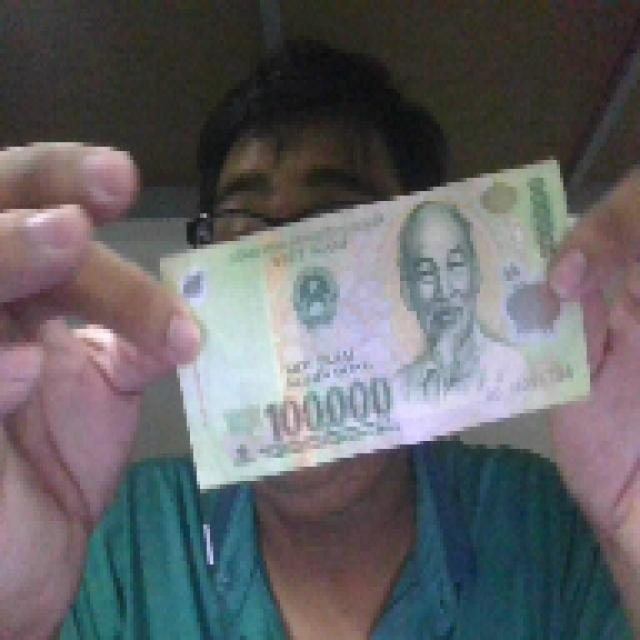100 000 VND: (153, 151, 597, 493)
